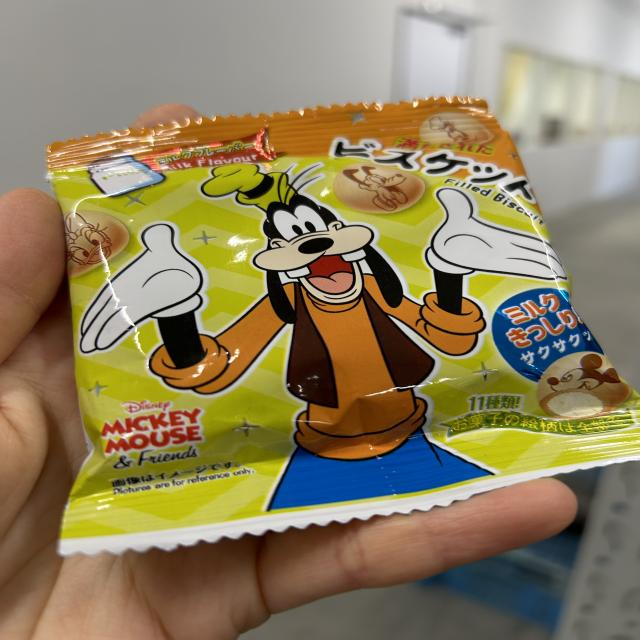object_name: (68, 138, 576, 487)
